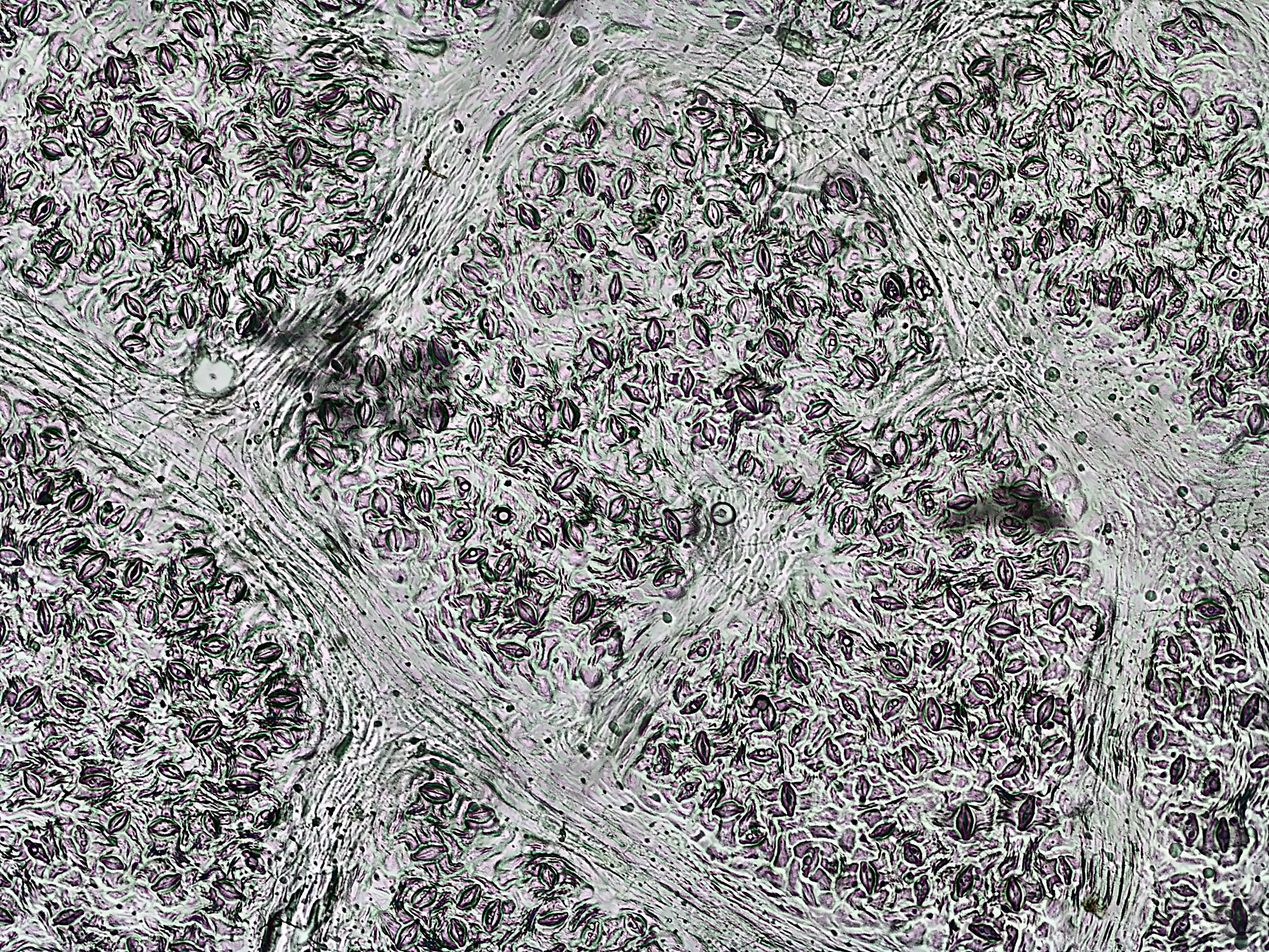stomata: (1192, 593, 1235, 625), (786, 652, 815, 688), (1180, 8, 1211, 41), (461, 804, 500, 830), (115, 719, 151, 746), (239, 848, 271, 877), (868, 591, 910, 613), (32, 599, 58, 634), (244, 807, 279, 833), (167, 597, 203, 622), (185, 718, 221, 743), (12, 685, 44, 713), (919, 115, 946, 148), (1184, 326, 1211, 359), (154, 759, 187, 786), (146, 872, 183, 896), (946, 161, 971, 196), (763, 328, 792, 358), (688, 314, 716, 345), (833, 503, 860, 535), (225, 775, 264, 797), (851, 354, 881, 382), (873, 511, 903, 539), (216, 671, 243, 702), (1236, 695, 1263, 726), (1048, 539, 1072, 573), (306, 441, 334, 470), (668, 141, 697, 169), (18, 770, 46, 799), (997, 756, 1026, 784), (515, 204, 545, 231), (54, 40, 80, 71), (363, 356, 389, 387), (429, 336, 455, 367), (806, 230, 832, 261), (842, 448, 868, 479), (1156, 29, 1187, 55), (880, 695, 911, 721), (885, 430, 909, 463), (1059, 209, 1083, 242), (417, 780, 450, 804), (457, 881, 485, 909), (968, 674, 996, 702), (394, 918, 421, 947), (1166, 205, 1189, 239), (587, 338, 613, 368), (835, 693, 865, 719), (250, 642, 285, 664), (344, 148, 376, 172), (410, 844, 450, 863), (941, 416, 962, 452), (934, 80, 962, 107), (1016, 794, 1037, 830), (1229, 895, 1250, 931), (438, 287, 467, 313), (909, 324, 934, 354), (912, 272, 937, 302), (182, 547, 212, 572), (126, 675, 156, 700), (995, 555, 1017, 589), (923, 698, 945, 732), (570, 590, 594, 621), (1055, 101, 1079, 132), (77, 771, 116, 790), (156, 43, 179, 75), (834, 626, 857, 658), (1090, 52, 1116, 80), (525, 288, 553, 314), (226, 213, 248, 246), (536, 859, 558, 892), (29, 195, 54, 224), (1019, 153, 1048, 178), (924, 638, 949, 667), (755, 240, 774, 278), (287, 136, 311, 166), (1166, 292, 1190, 322), (214, 879, 244, 903), (583, 551, 617, 572), (229, 2, 252, 33), (877, 654, 908, 677), (427, 398, 449, 430), (448, 914, 470, 946), (181, 11, 208, 37), (1010, 202, 1037, 228), (322, 114, 357, 134), (945, 583, 965, 618), (298, 249, 322, 278), (737, 383, 761, 412), (1208, 375, 1229, 408), (187, 144, 210, 174), (1218, 204, 1240, 235), (199, 634, 230, 656), (237, 741, 268, 763), (326, 187, 360, 207), (1093, 185, 1113, 219), (778, 781, 798, 815), (634, 233, 660, 259), (98, 502, 124, 528), (365, 88, 390, 115), (624, 910, 649, 937), (1047, 595, 1072, 622), (318, 398, 339, 430), (841, 282, 865, 310), (976, 170, 997, 202), (24, 840, 52, 864), (674, 778, 702, 802), (822, 736, 846, 764), (399, 341, 422, 370), (828, 2, 857, 25), (966, 106, 989, 135), (654, 740, 672, 777), (760, 697, 779, 732), (262, 690, 301, 707), (255, 267, 277, 297), (1142, 266, 1162, 299), (1004, 877, 1024, 910), (487, 503, 517, 525), (692, 259, 723, 280), (837, 173, 858, 204), (1072, 2, 1103, 23), (552, 467, 578, 492), (167, 658, 193, 683), (1209, 257, 1236, 281), (534, 910, 570, 928), (688, 637, 715, 661), (552, 320, 579, 344), (516, 599, 539, 627), (578, 164, 598, 196), (1012, 480, 1044, 500), (136, 598, 156, 630), (581, 918, 603, 947), (543, 166, 564, 196), (576, 224, 597, 254), (1219, 103, 1240, 133), (740, 653, 761, 683), (644, 317, 663, 350), (692, 731, 711, 764), (967, 921, 1000, 940), (494, 553, 519, 578), (411, 885, 436, 910), (224, 574, 248, 600), (798, 848, 822, 874), (476, 232, 503, 255), (901, 841, 924, 868), (310, 50, 341, 70), (560, 398, 580, 429), (499, 639, 530, 659), (881, 273, 903, 301), (210, 282, 227, 318), (1132, 203, 1150, 237), (988, 620, 1022, 638), (336, 228, 357, 257), (947, 491, 976, 512), (1041, 736, 1070, 757), (461, 362, 482, 391), (1172, 134, 1191, 166), (1003, 236, 1022, 268), (634, 117, 654, 147), (1015, 64, 1045, 84), (1232, 299, 1252, 329), (738, 826, 768, 846), (780, 478, 807, 500), (992, 450, 1019, 472), (54, 905, 81, 927), (946, 541, 979, 559), (56, 692, 87, 711), (150, 818, 181, 837), (461, 262, 489, 283), (36, 94, 65, 114), (79, 665, 108, 685), (628, 450, 653, 473), (87, 116, 113, 138), (124, 294, 146, 320), (39, 426, 65, 448), (789, 717, 811, 743), (954, 867, 976, 893), (279, 208, 298, 238), (236, 309, 257, 336), (318, 84, 345, 105), (650, 185, 671, 212), (606, 415, 627, 442), (1035, 696, 1056, 723), (1215, 652, 1248, 669), (355, 399, 375, 427), (443, 518, 471, 538), (866, 219, 886, 247), (1107, 275, 1123, 310), (1193, 685, 1211, 716), (745, 748, 782, 763), (958, 801, 973, 838), (56, 532, 80, 555), (739, 128, 768, 147), (705, 199, 724, 228), (620, 548, 639, 577), (978, 720, 1007, 739), (1034, 12, 1059, 34), (271, 725, 296, 747), (593, 623, 618, 645), (20, 2, 41, 28), (93, 237, 114, 263), (19, 264, 45, 285), (509, 355, 526, 387), (469, 620, 503, 636), (478, 310, 498, 337), (468, 411, 483, 447), (664, 510, 682, 540), (34, 476, 54, 503), (968, 56, 995, 76), (201, 809, 221, 836), (1163, 636, 1183, 663), (8, 434, 27, 462), (900, 746, 919, 774), (607, 496, 630, 519), (1169, 917, 1192, 940), (181, 295, 197, 328), (787, 291, 809, 315), (453, 476, 475, 500), (530, 524, 555, 545), (711, 503, 736, 524), (486, 899, 501, 934), (369, 490, 390, 515), (996, 515, 1025, 533), (40, 140, 66, 160), (255, 180, 275, 206), (273, 90, 293, 116), (105, 812, 131, 832), (871, 820, 898, 839), (1036, 229, 1052, 261), (859, 862, 876, 892), (152, 123, 174, 146), (69, 492, 92, 514), (145, 191, 169, 212), (507, 437, 525, 465), (654, 567, 682, 585), (898, 479, 922, 500), (1125, 135, 1141, 166), (1246, 167, 1262, 198), (71, 822, 87, 853), (183, 236, 198, 269), (711, 802, 744, 817), (232, 122, 258, 141), (579, 119, 598, 145), (386, 524, 403, 553), (748, 173, 766, 200), (1147, 722, 1165, 749), (1169, 755, 1187, 782), (97, 854, 127, 870), (86, 628, 114, 645), (625, 384, 650, 403), (727, 298, 746, 323), (104, 57, 119, 88), (221, 63, 250, 79), (1216, 818, 1230, 851), (707, 129, 730, 149), (1062, 288, 1079, 315), (110, 159, 134, 178), (81, 559, 105, 578), (124, 559, 143, 583), (460, 546, 485, 564), (737, 451, 755, 476), (0, 548, 25, 566), (686, 106, 718, 120), (913, 876, 930, 902), (1200, 771, 1220, 793), (120, 336, 149, 351), (530, 570, 559, 585), (897, 558, 926, 573), (609, 273, 623, 304), (1248, 402, 1262, 433), (670, 232, 686, 259), (1253, 344, 1269, 371), (683, 695, 707, 713), (43, 733, 67, 751), (52, 240, 72, 261), (1101, 106, 1116, 134), (1058, 855, 1073, 883), (133, 226, 154, 246), (419, 482, 435, 508), (567, 521, 583, 547), (10, 170, 33, 188), (616, 172, 634, 195), (806, 401, 830, 418), (823, 329, 838, 356), (1150, 91, 1166, 116), (1012, 132, 1037, 148), (389, 434, 407, 456), (473, 594, 491, 616), (855, 775, 869, 803), (700, 421, 718, 442), (1257, 216, 1269, 247), (680, 368, 693, 396), (1004, 658, 1028, 673), (1184, 817, 1199, 841), (1171, 885, 1197, 898), (533, 405, 548, 427), (102, 204, 125, 218), (1248, 754, 1269, 769), (411, 437, 423, 461)
